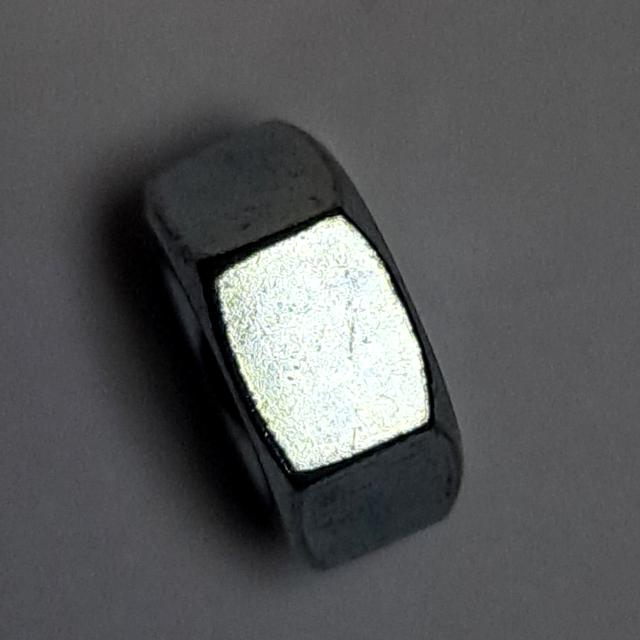Side_Excellent: (132, 100, 479, 584)
